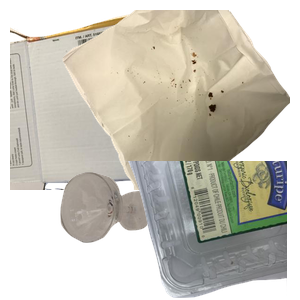cardboard: (10, 10, 191, 190)
glass: (58, 170, 202, 300)
plastic: (60, 161, 300, 300)
trash: (60, 10, 300, 190)
